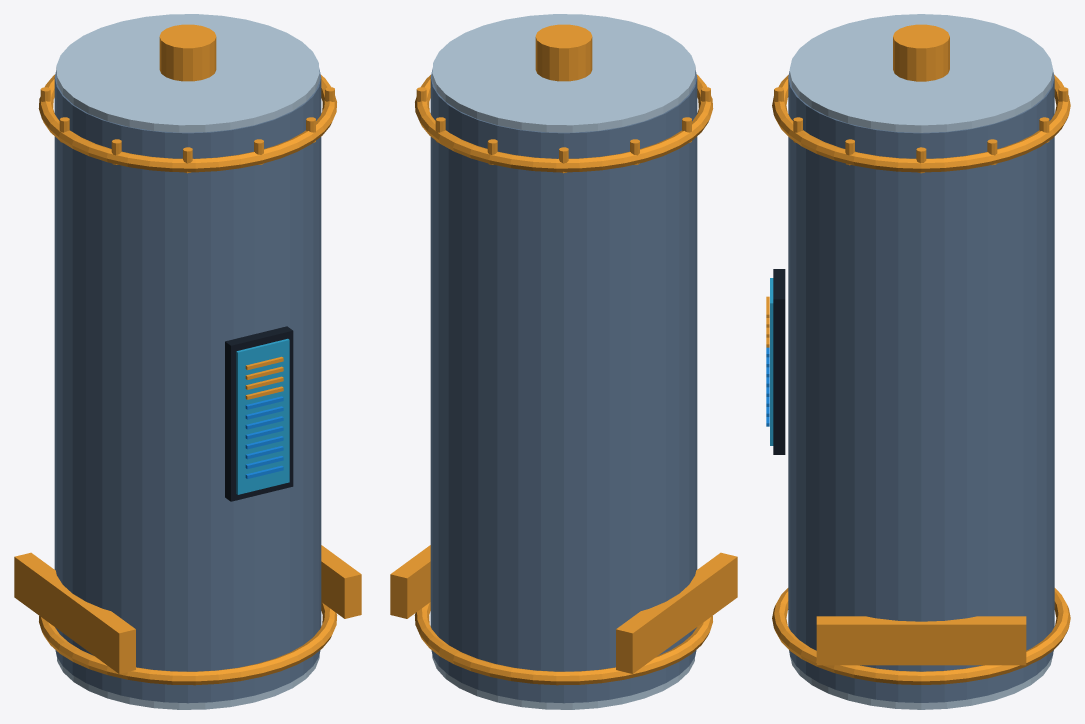
The model's file is 43_L89_WaterReservoirMain.fbx.
3 views of the same model, side by side, from view 1: azimuth 30°, elevation 25°; view 2: azimuth 150°, elevation 25°; view 3: azimuth 270°, elevation 25° (orthographic).
Visible parts, largest first — view 1: L87_WaterReservoirMain_Part_0000, L87_WaterReservoirMain_Part_0001, L87_WaterReservoirMain_Part_0002, L87_WaterReservoirMain_Part_0004, L87_WaterReservoirMain_Part_0003, L87_WaterReservoirMain_Part_0005, L87_WaterReservoirMain_Part_0006; view 2: L87_WaterReservoirMain_Part_0000, L87_WaterReservoirMain_Part_0001, L87_WaterReservoirMain_Part_0002; view 3: L87_WaterReservoirMain_Part_0000, L87_WaterReservoirMain_Part_0001, L87_WaterReservoirMain_Part_0002, L87_WaterReservoirMain_Part_0003, L87_WaterReservoirMain_Part_0004.
Part boxes in pixels (x1,y1,x2,y2): L87_WaterReservoirMain_Part_0000: (54,69,321,703); L87_WaterReservoirMain_Part_0001: (56,14,319,709); L87_WaterReservoirMain_Part_0002: (14,24,361,685); L87_WaterReservoirMain_Part_0004: (236,338,289,494); L87_WaterReservoirMain_Part_0003: (225,326,293,501); L87_WaterReservoirMain_Part_0005: (245,396,283,478); L87_WaterReservoirMain_Part_0006: (245,356,283,399); L87_WaterReservoirMain_Part_0000: (430,69,697,703); L87_WaterReservoirMain_Part_0001: (432,14,695,709); L87_WaterReservoirMain_Part_0002: (390,24,737,685); L87_WaterReservoirMain_Part_0000: (788,71,1054,702); L87_WaterReservoirMain_Part_0001: (789,14,1053,709); L87_WaterReservoirMain_Part_0002: (772,24,1070,684); L87_WaterReservoirMain_Part_0003: (773,269,785,454); L87_WaterReservoirMain_Part_0004: (770,278,773,445).
Size of the model in its own units: 200 by 480 by 203.
